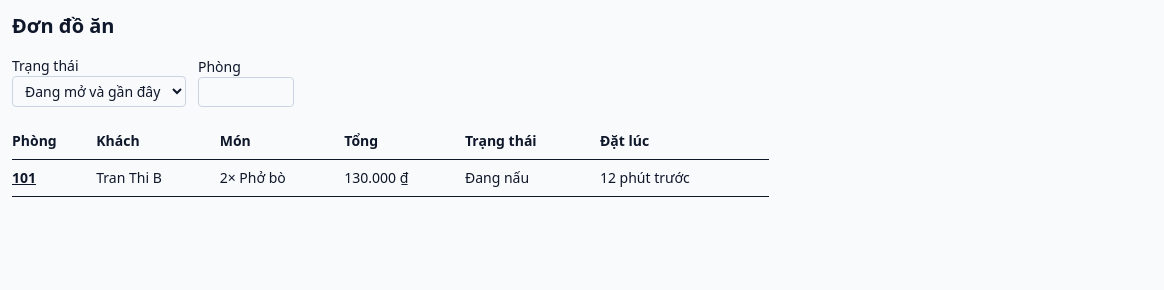
Test case: OrderList › does not offer cancelling once the kitchen is cooking
Click the button named "Xem đơn phòng 101". click: click(24, 178)
box: [12,168,36,188]
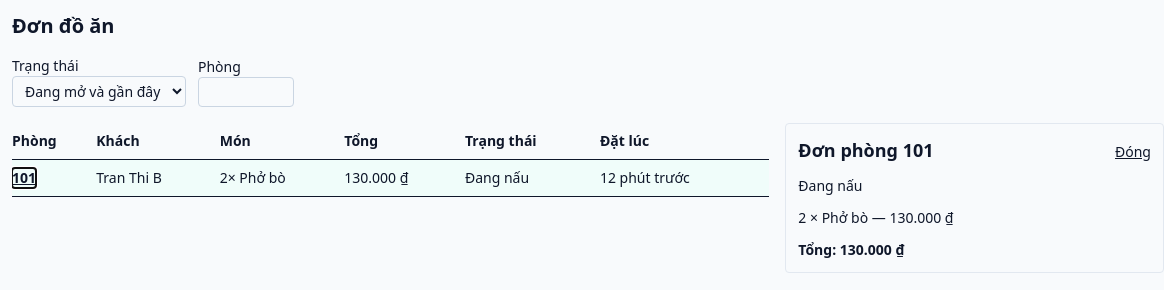
Check: the element "Đơn phòng 101" shows "Đang nấu", box [798,176,862,195]
